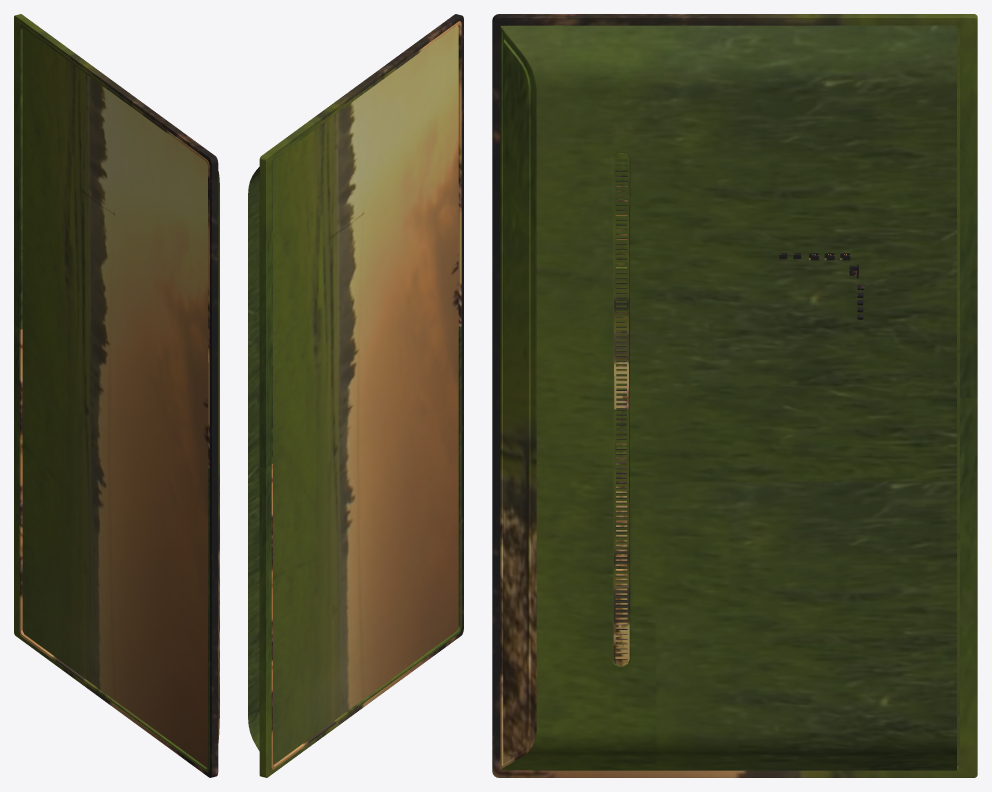
The model's file is body_7_on.obj.
3 views of the same model, side by side, from view 1: azimuth 30°, elevation 25°; view 2: azimuth 150°, elevation 25°; view 3: azimuth 270°, elevation 25° (orthographic). The views are drawn at different scales.
Parts seen in each view (by area): view 1: polySurface83_1008.007; view 2: polySurface83_1008.007; view 3: polySurface83_1008.007.
Boxes of the visible parts, x1,y1,x2,y2 form: polySurface83_1008.007: (14,14,219,777); polySurface83_1008.007: (248,14,463,777); polySurface83_1008.007: (492,14,977,777).
Bounding box in the file's own units: 0.7125 × 11.51 × 6.66.
1 material, 1 textured.
